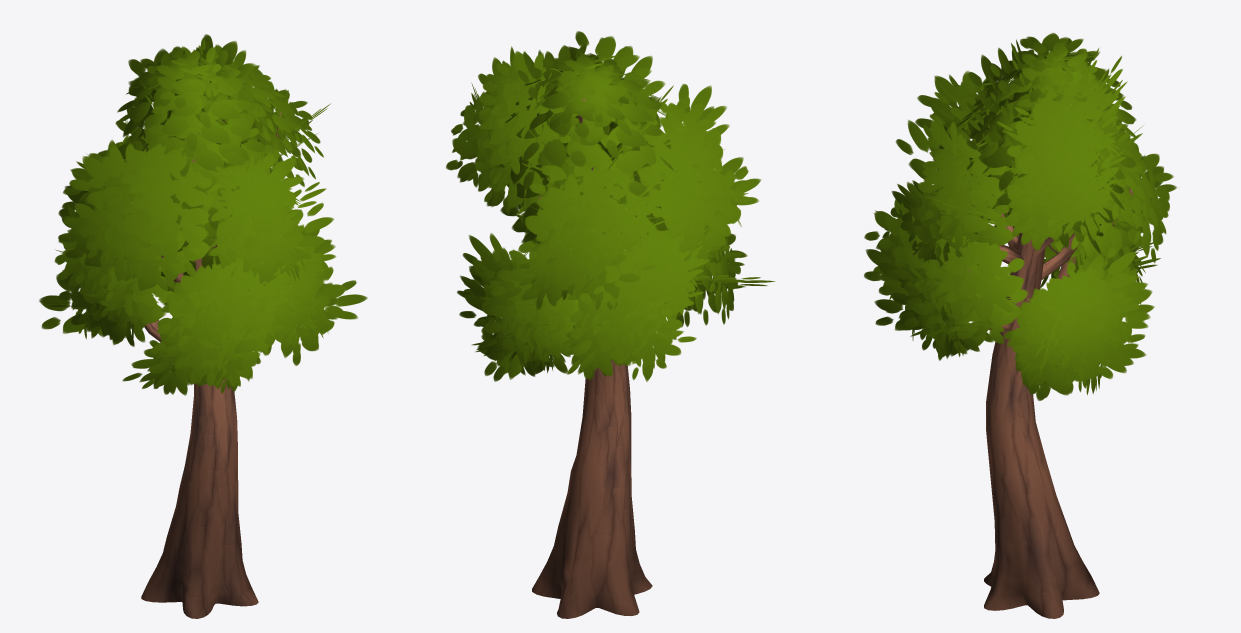
File: tree_leafy.glb
The picture shows the model from 3 angles, left to right: view 1: azimuth 30°, elevation 25°; view 2: azimuth 150°, elevation 25°; view 3: azimuth 270°, elevation 25°; orthographic projection. The views are drawn at different scales.
Visible parts, largest first — view 1: CommonTree_1; view 2: CommonTree_1; view 3: CommonTree_1.
Boxes of the visible parts, x1,y1,x2,y2 form: CommonTree_1: [39, 34, 367, 618]; CommonTree_1: [446, 31, 775, 618]; CommonTree_1: [864, 33, 1176, 618].
Bounding box in the file's own units: 4.15 × 7 × 4.41.
2 materials, 2 textured.
